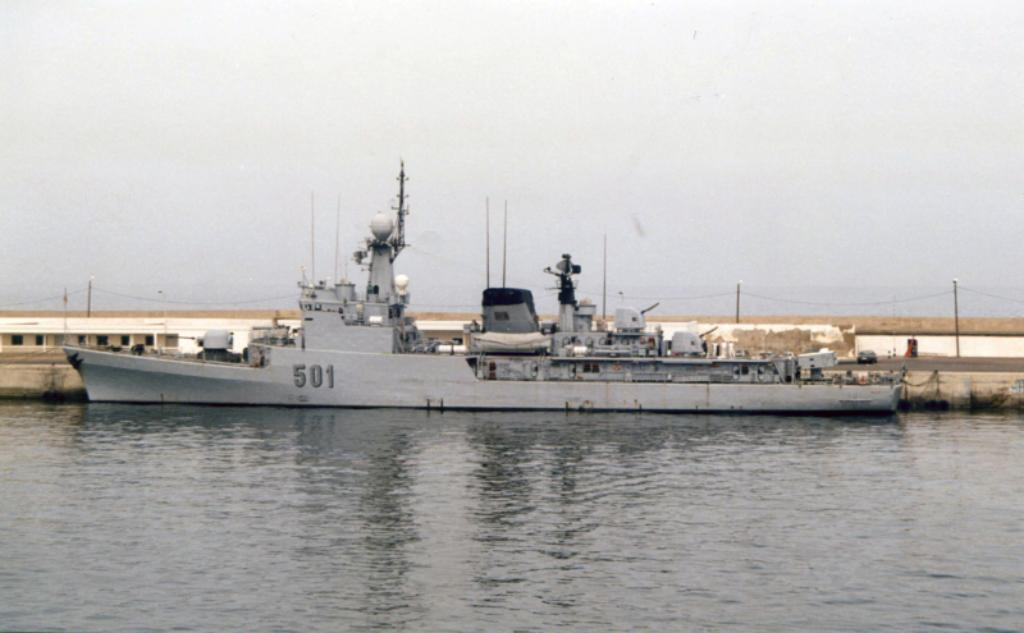Warship: (59, 154, 905, 416)
